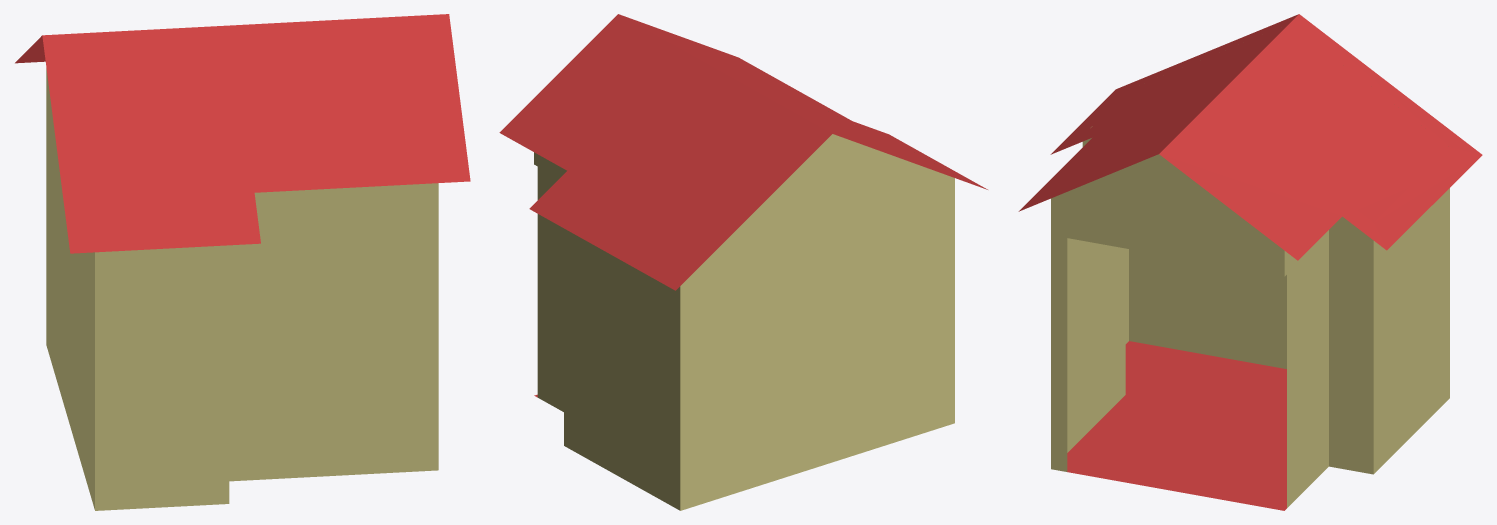
3 renders of one model, left to right at view 1: azimuth 30°, elevation 25°; view 2: azimuth 150°, elevation 25°; view 3: azimuth 270°, elevation 25°, orthographic. The views are drawn at different scales.
Parts seen in each view (by area): view 1: group_5, group_3, group_4; view 2: group_5, group_3, group_4; view 3: group_5, group_3, group_6, group_4.
Part boxes in pixels (bbox=[...]): group_5: bbox=[46, 68, 438, 510]; group_3: bbox=[15, 14, 470, 253]; group_4: bbox=[42, 34, 319, 253]; group_5: bbox=[534, 134, 954, 510]; group_3: bbox=[499, 14, 985, 262]; group_4: bbox=[529, 95, 987, 290]; group_5: bbox=[1051, 126, 1449, 507]; group_3: bbox=[1018, 14, 1449, 260]; group_6: bbox=[1067, 341, 1286, 510]; group_4: bbox=[1086, 14, 1482, 250].
Size of the model in its own units: 14 by 13.9 by 11.42.
